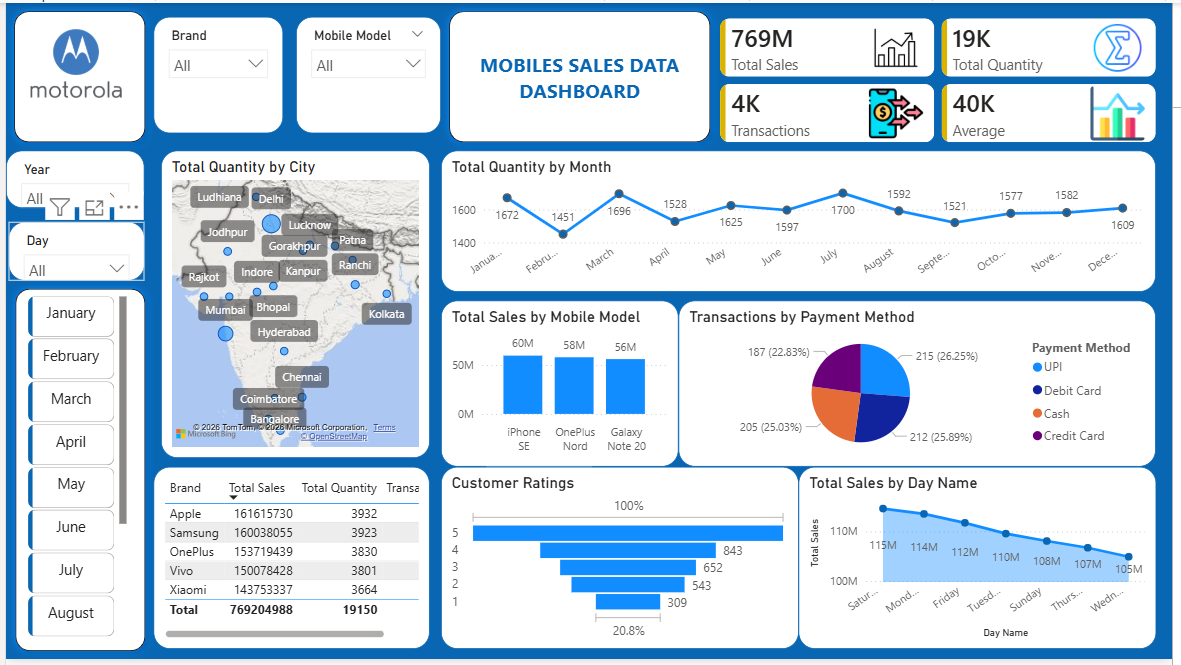

Layout of this report page (visuals, bound fields, positions):
{"tool":"powerbi","page":{"name":"Page 1","canvas":[1280,720],"ordinal":0},"visuals":[{"type":"shape","box":[517.3,376,135.8,155.1],"z":0},{"type":"shape","box":[0,304.6,160.5,415.8],"z":1000},{"type":"advancedSlicerVisual","fields":{"Values":["Mobile_Sales_Data.Date.Variation.Date Hierarchy.Month"]},"box":[22,319.7,112.5,378.7],"z":2000},{"type":"cardVisual","fields":{"Data":["Mobile_Sales_Data.Total Sales","Mobile_Sales_Data.Total Quantity","Mobile_Sales_Data.Transactions","Mobile_Sales_Data.Average"]},"box":[767.1,0,513.2,171.5],"z":3000},{"type":"map","fields":{"Category":["Mobile_Sales_Data.City"],"Size":["Mobile_Sales_Data.Total Quantity"]},"box":[170.2,161.9,295,337.6],"z":4000},{"type":"lineChart","fields":{"Category":["Mobile_Sales_Data.Date.Variation.Date Hierarchy.Month"],"Y":["Mobile_Sales_Data.Total Quantity"]},"box":[477.5,161.9,784.9,155.1],"z":5000},{"type":"clusteredColumnChart","fields":{"Category":["Mobile_Sales_Data.Mobile Model"],"Y":["Mobile_Sales_Data.Total Sales"]},"box":[477.5,326.6,260.7,182.5],"z":6000},{"type":"pieChart","fields":{"Y":["Mobile_Sales_Data.Transactions"],"Category":["Mobile_Sales_Data.Payment Method"]},"box":[738.3,326.6,524.2,182.5],"z":7000},{"type":"funnel","title":"Customer Ratings","fields":{"Y":["CountNonNull(Mobile_Sales_Data.Customer Ratings)"],"Category":["Mobile_Sales_Data.Customer Ratings"]},"box":[477.5,509.1,392.5,200.3],"z":8000},{"type":"stackedAreaChart","fields":{"Category":["Mobile_Sales_Data.Day Name"],"Y":["Mobile_Sales_Data.Total Sales"]},"box":[870,509.1,392.5,200.3],"z":9000},{"type":"tableEx","fields":{"Values":["Mobile_Sales_Data.Brand","Mobile_Sales_Data.Total Sales","Mobile_Sales_Data.Total Quantity","Mobile_Sales_Data.Transactions"]},"box":[161.9,509.1,303.3,200.3],"z":10000},{"type":"slicer","fields":{"Values":["Mobile_Sales_Data.Date.Variation.Date Hierarchy.Year"]},"box":[0,161.9,152.3,63.1],"z":11000},{"type":"slicer","fields":{"Values":["Mobile_Sales_Data.Date.Variation.Date Hierarchy.Day"]},"box":[2.7,240.1,149.6,64.5],"z":12000},{"type":"slicer","fields":{"Values":["Mobile_Sales_Data.Brand"]},"box":[161.9,15.1,142.7,127.6],"z":13000},{"type":"slicer","fields":{"Values":["Mobile_Sales_Data.Mobile Model"]},"box":[318.4,15.1,159.2,127.6],"z":14000},{"type":"shape","box":[477.5,0,304.6,161.9],"z":15000},{"type":"shape","box":[0,0,161.9,161.9],"z":16000},{"type":"image","box":[20.6,28.8,112.5,75.5],"z":17000}]}

Visuals, with their boxes in screenshot pixels (x1, y1, x2, y2), scaled from the page's 1280x720 canvas onto the 1181x665 screenshot:
shape: left=477, top=347, right=603, bottom=491
shape: left=0, top=281, right=148, bottom=664
advancedSlicerVisual - Mobile_Sales_Data.Date.Variation.Date Hierarchy.Month: left=20, top=295, right=124, bottom=645
cardVisual - Mobile_Sales_Data.Total Sales x Mobile_Sales_Data.Total Quantity: left=708, top=0, right=1180, bottom=158
map - Mobile_Sales_Data.City x Mobile_Sales_Data.Total Quantity: left=157, top=150, right=429, bottom=461
lineChart - Mobile_Sales_Data.Date.Variation.Date Hierarchy.Month x Mobile_Sales_Data.Total Quantity: left=441, top=150, right=1165, bottom=293
clusteredColumnChart - Mobile_Sales_Data.Mobile Model x Mobile_Sales_Data.Total Sales: left=441, top=302, right=681, bottom=470
pieChart - Mobile_Sales_Data.Transactions x Mobile_Sales_Data.Payment Method: left=681, top=302, right=1165, bottom=470
"Customer Ratings" funnel: left=441, top=470, right=803, bottom=655
stackedAreaChart - Mobile_Sales_Data.Day Name x Mobile_Sales_Data.Total Sales: left=803, top=470, right=1165, bottom=655
tableEx - Mobile_Sales_Data.Brand x Mobile_Sales_Data.Total Sales: left=149, top=470, right=429, bottom=655
slicer - Mobile_Sales_Data.Date.Variation.Date Hierarchy.Year: left=0, top=150, right=141, bottom=208
slicer - Mobile_Sales_Data.Date.Variation.Date Hierarchy.Day: left=2, top=222, right=141, bottom=281
slicer - Mobile_Sales_Data.Brand: left=149, top=14, right=281, bottom=132
slicer - Mobile_Sales_Data.Mobile Model: left=294, top=14, right=441, bottom=132
shape: left=441, top=0, right=722, bottom=150
shape: left=0, top=0, right=149, bottom=150
image: left=19, top=27, right=123, bottom=96
